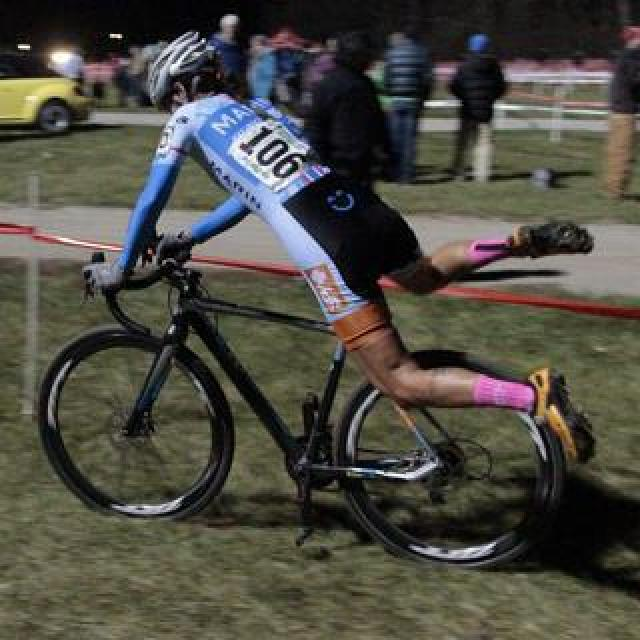Bus-Bike: (0, 54, 96, 138)
MC-Bike: (74, 22, 598, 542), (446, 34, 508, 184), (380, 28, 434, 184), (598, 38, 640, 200)
Person: (60, 186, 598, 562)
